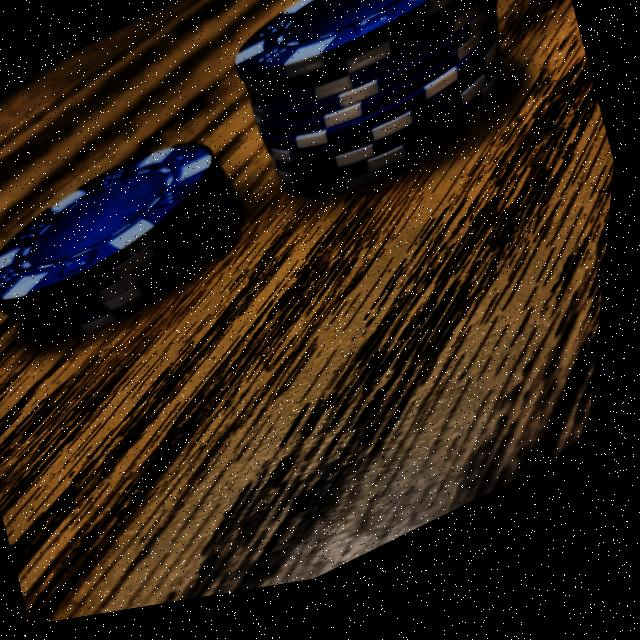Chip: (202, 0, 583, 259), (0, 95, 291, 388)
